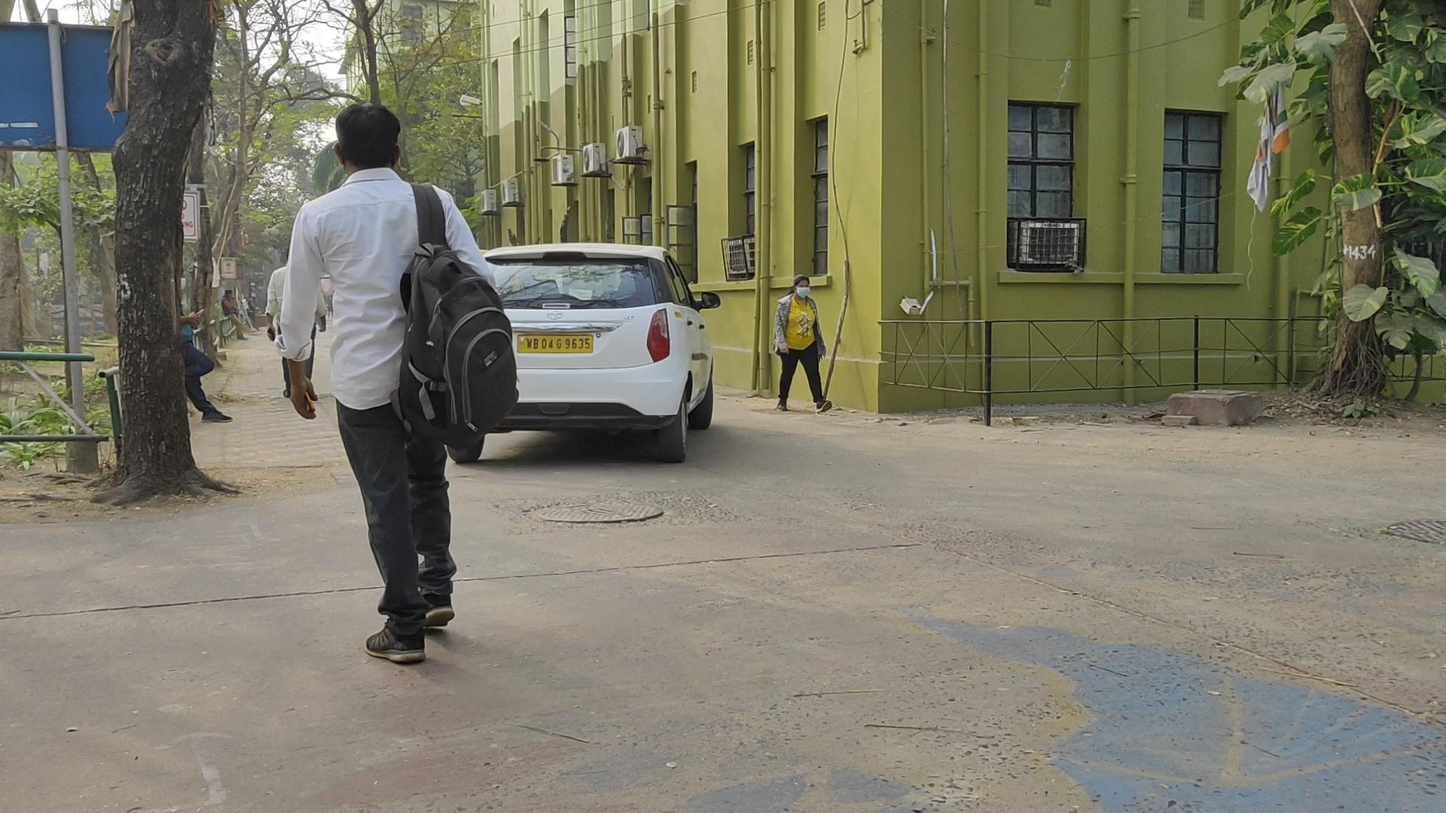car: (483, 242, 715, 464)
